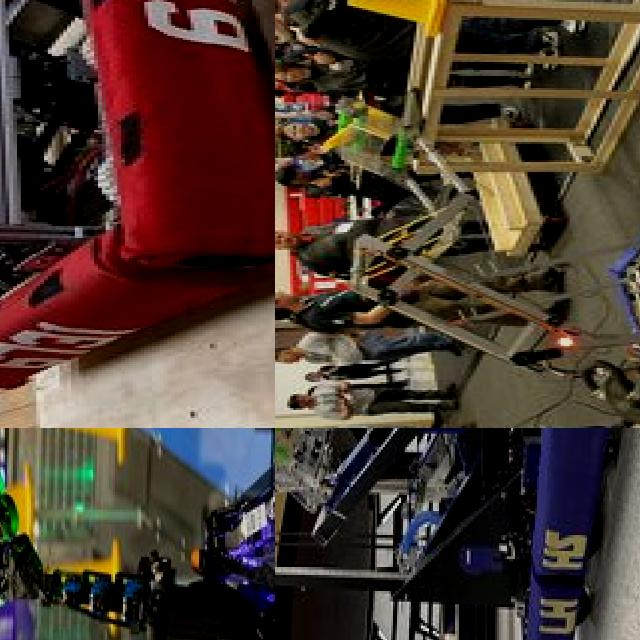FRC-Robots: (0, 0, 275, 374), (282, 200, 640, 418), (275, 428, 640, 640), (0, 428, 275, 640)
